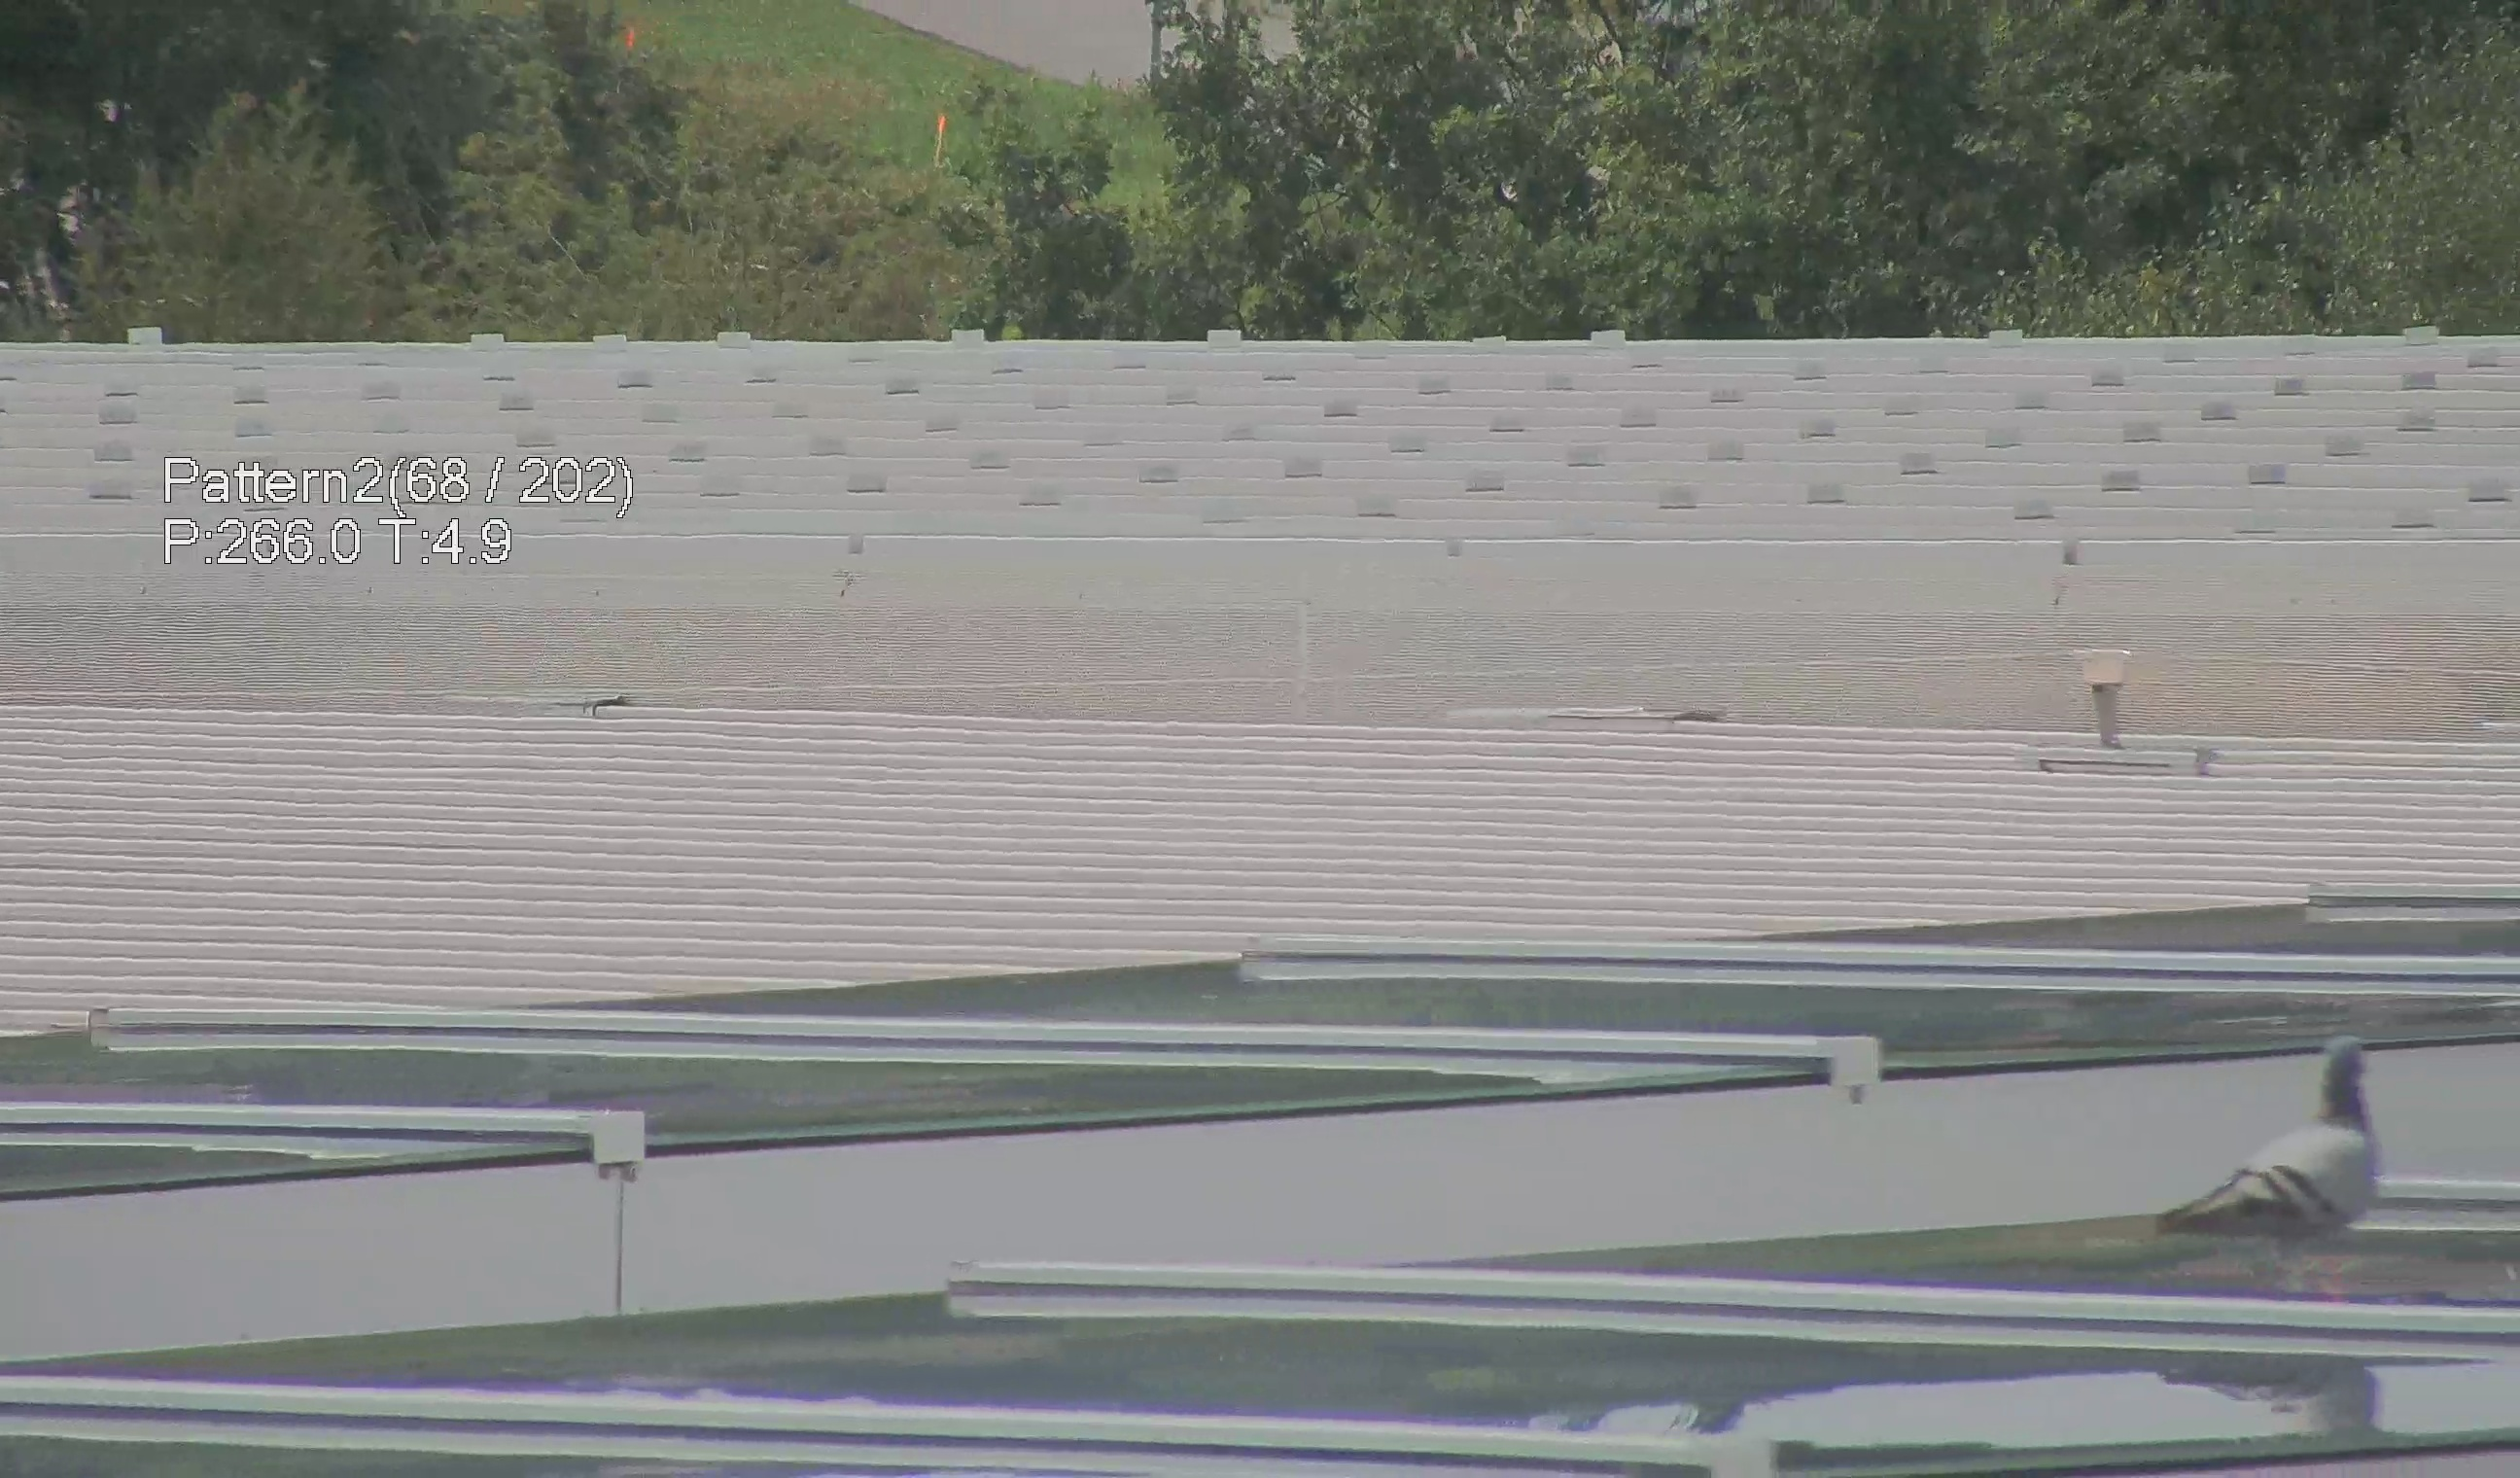Pigeon: (2158, 1040, 2407, 1265)
